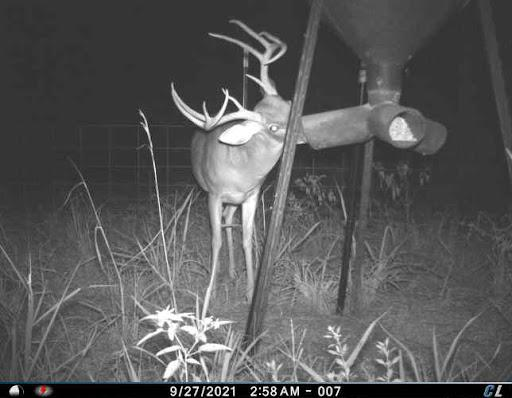Deer: (162, 11, 304, 317)
